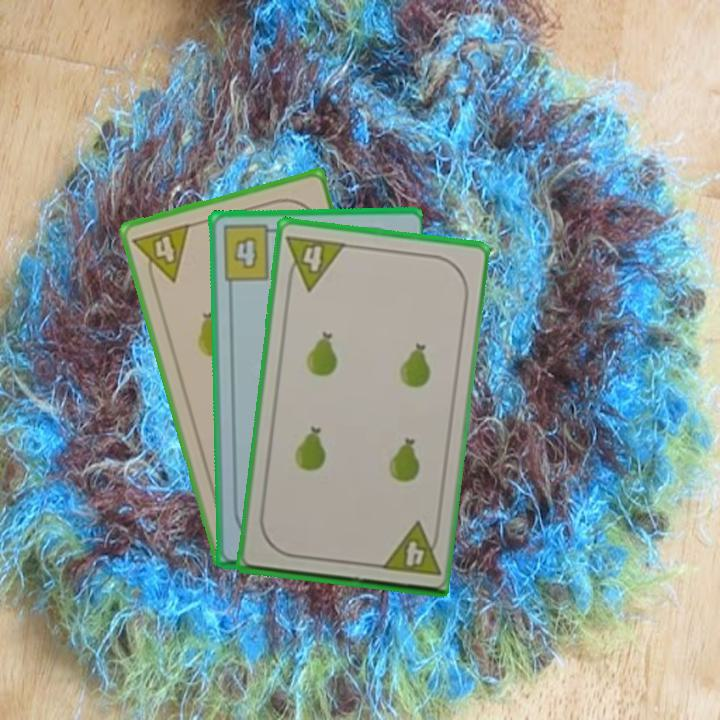4b: (219, 222, 281, 284)
4p: (129, 220, 193, 290), (282, 231, 348, 294), (376, 519, 443, 579)
